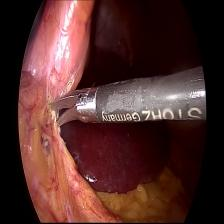Scissors: (48, 79, 102, 135)
